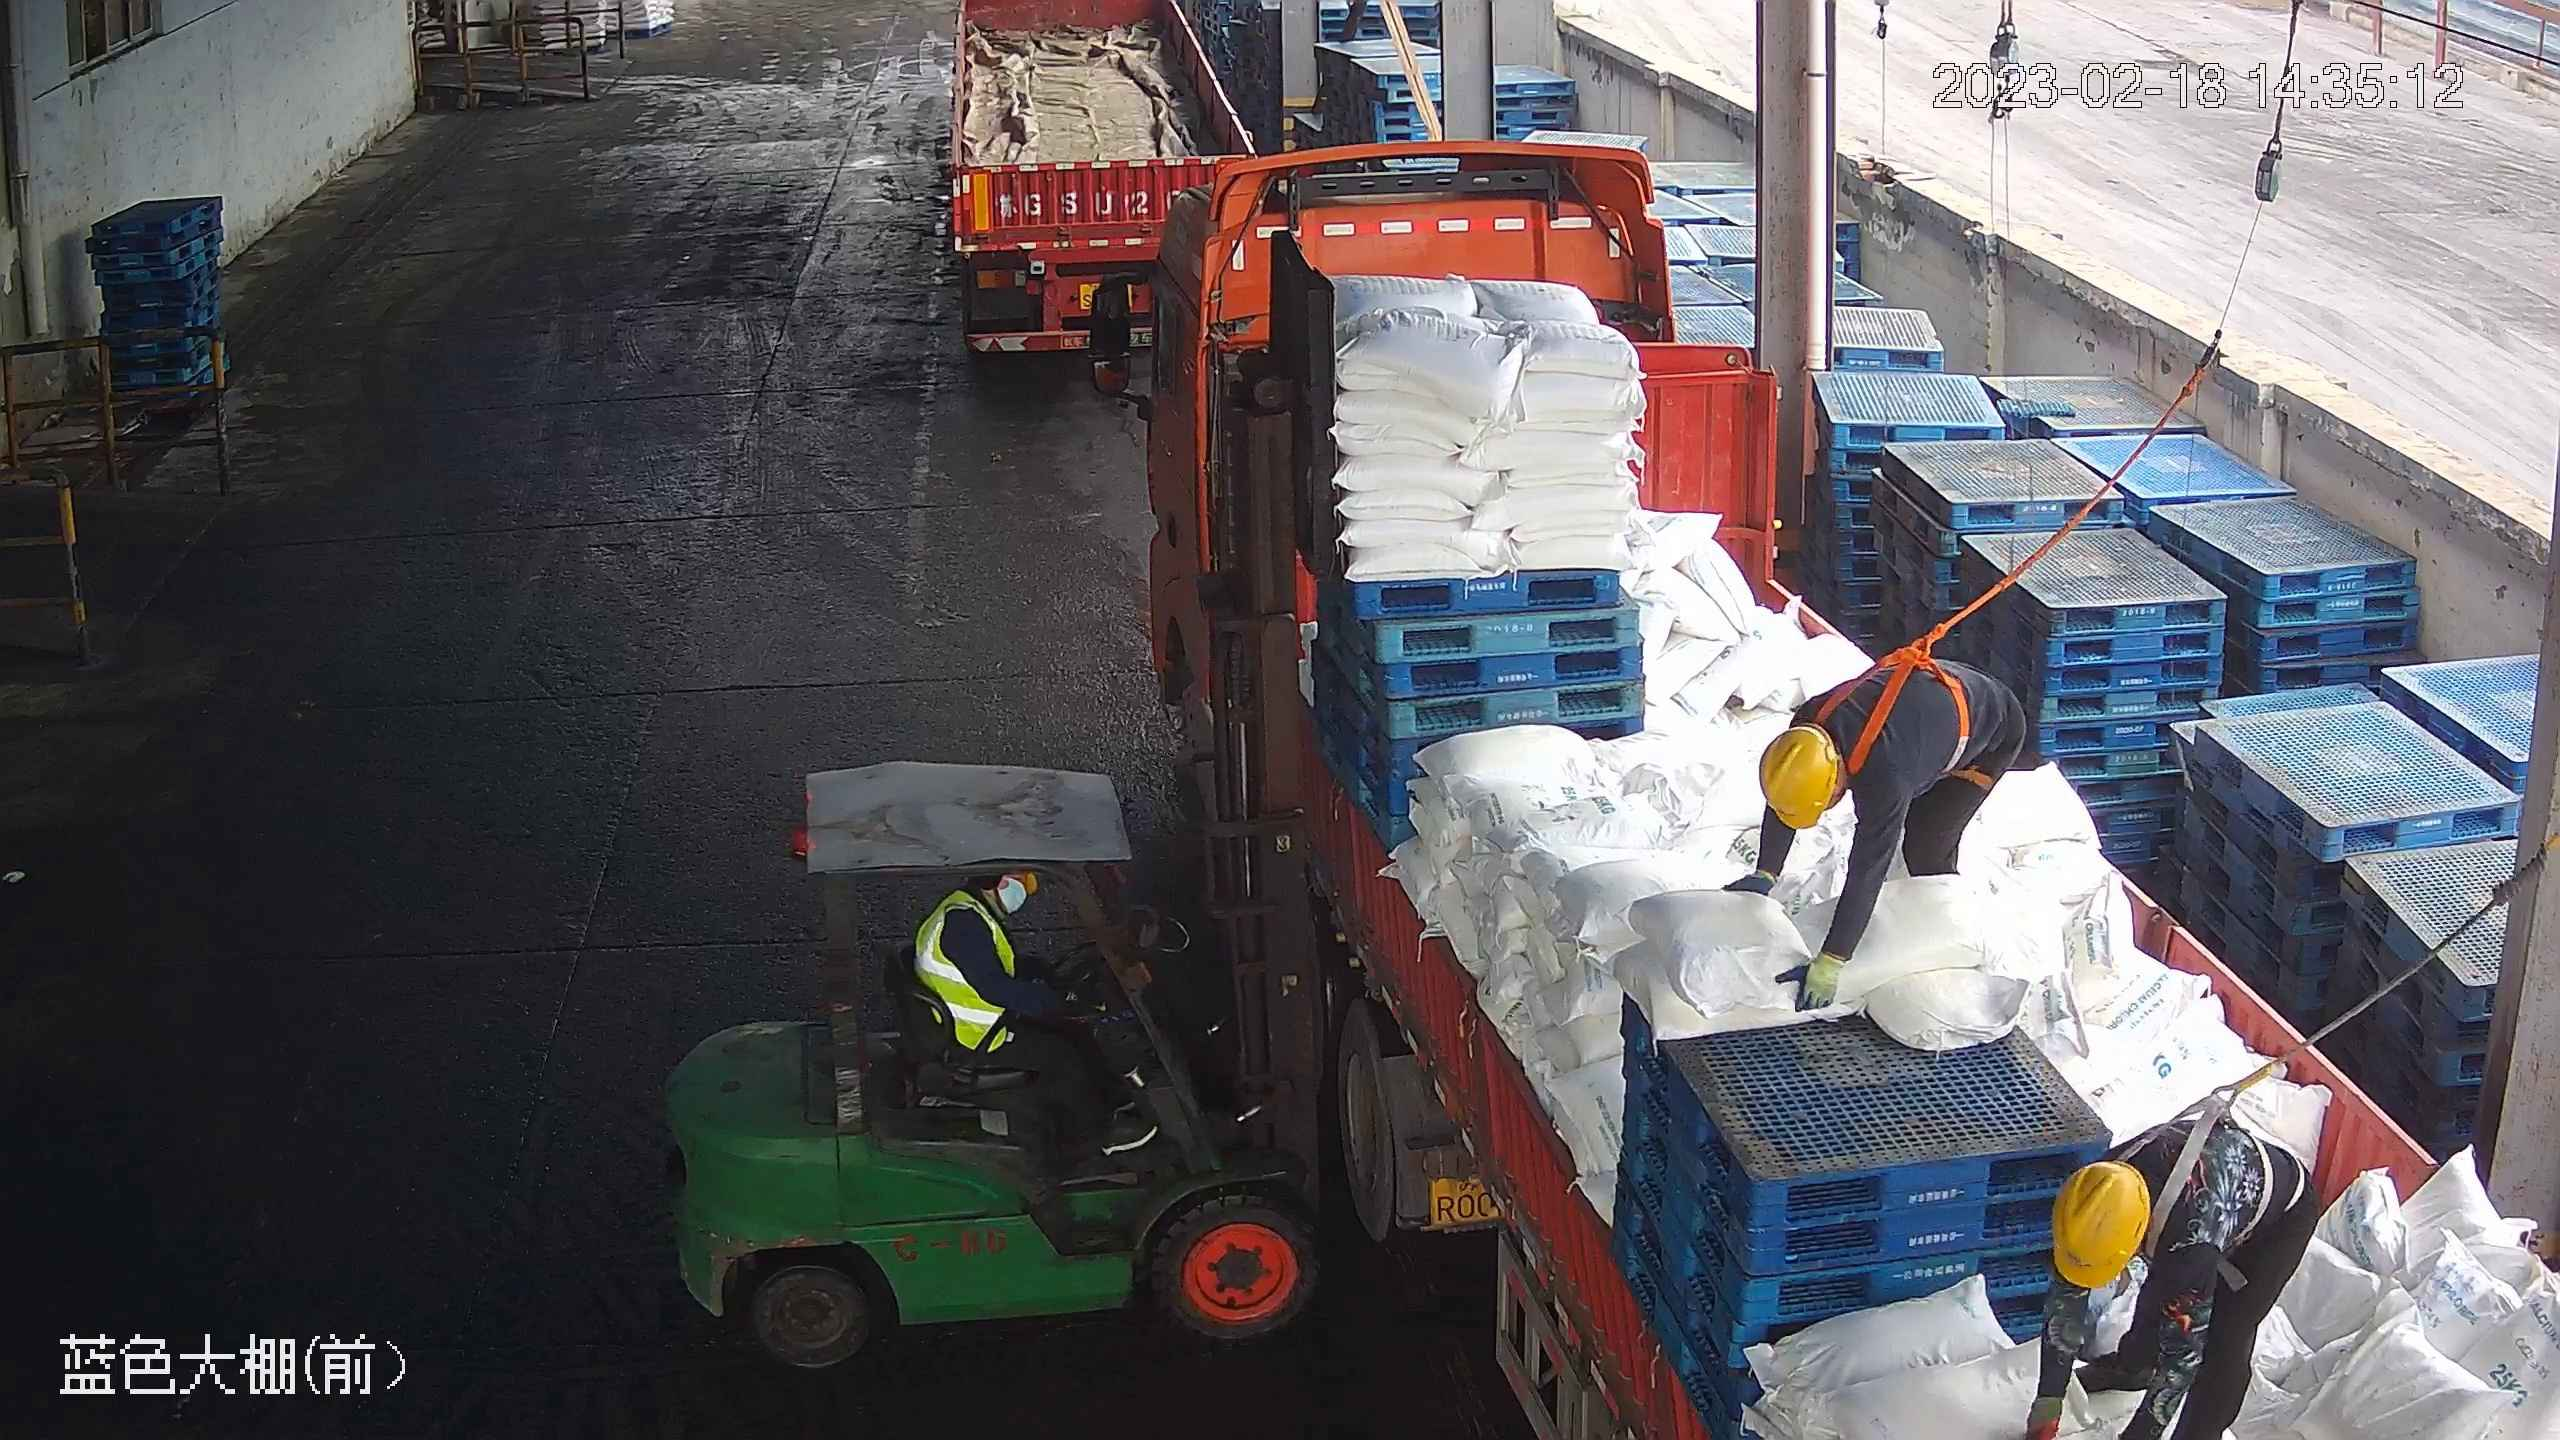belt: (2135, 1066, 2298, 1262), (1813, 632, 2001, 791)
head: (2049, 1128, 2242, 1311), (1751, 683, 1930, 866)
helmet: (2049, 1154, 2151, 1288), (1757, 725, 1839, 833)
people: (1723, 652, 2029, 1011), (2027, 1108, 2322, 1440), (913, 866, 1171, 1164)
truck: (1076, 127, 2560, 1440), (942, 1, 1271, 411)
